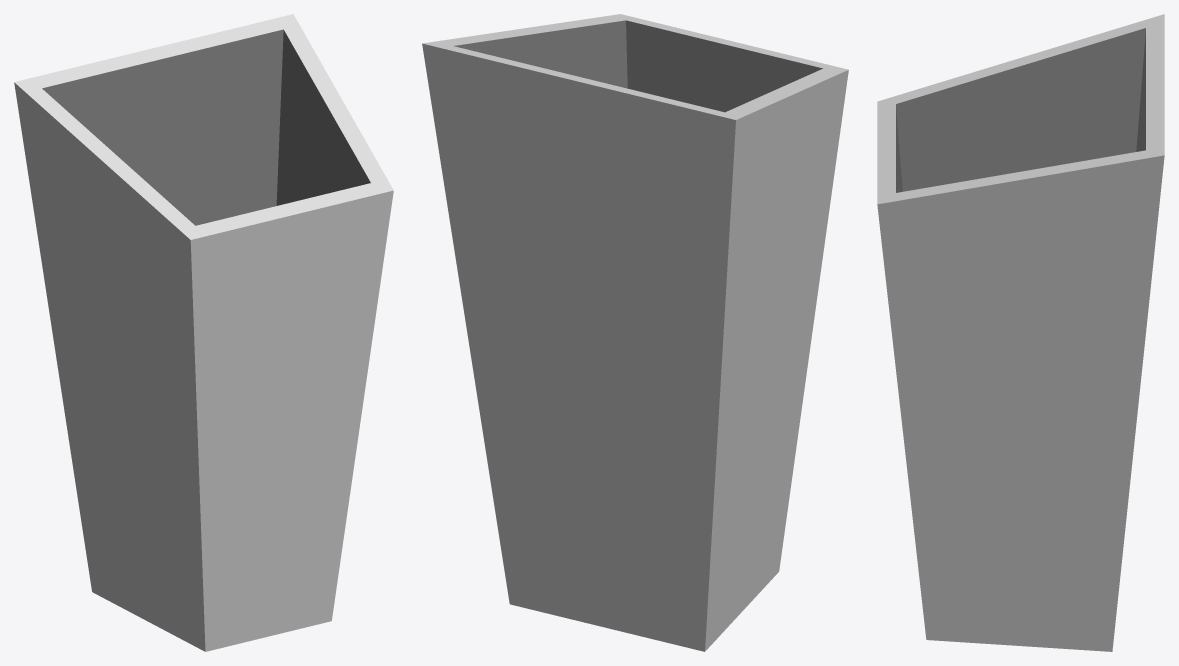
The model's file is TrashBin.fbx.
The picture shows the model from 3 angles, left to right: view 1: azimuth 30°, elevation 25°; view 2: azimuth 150°, elevation 25°; view 3: azimuth 270°, elevation 25°; orthographic projection. The views are drawn at different scales.
Parts seen in each view (by area): view 1: TrashBin; view 2: TrashBin; view 3: TrashBin.
Part boxes in pixels (x1,y1,x2,y2): TrashBin: (14, 14, 393, 651); TrashBin: (422, 14, 848, 651); TrashBin: (877, 14, 1164, 651).
Size of the model in its own units: 36.43 by 62.87 by 31.29.
